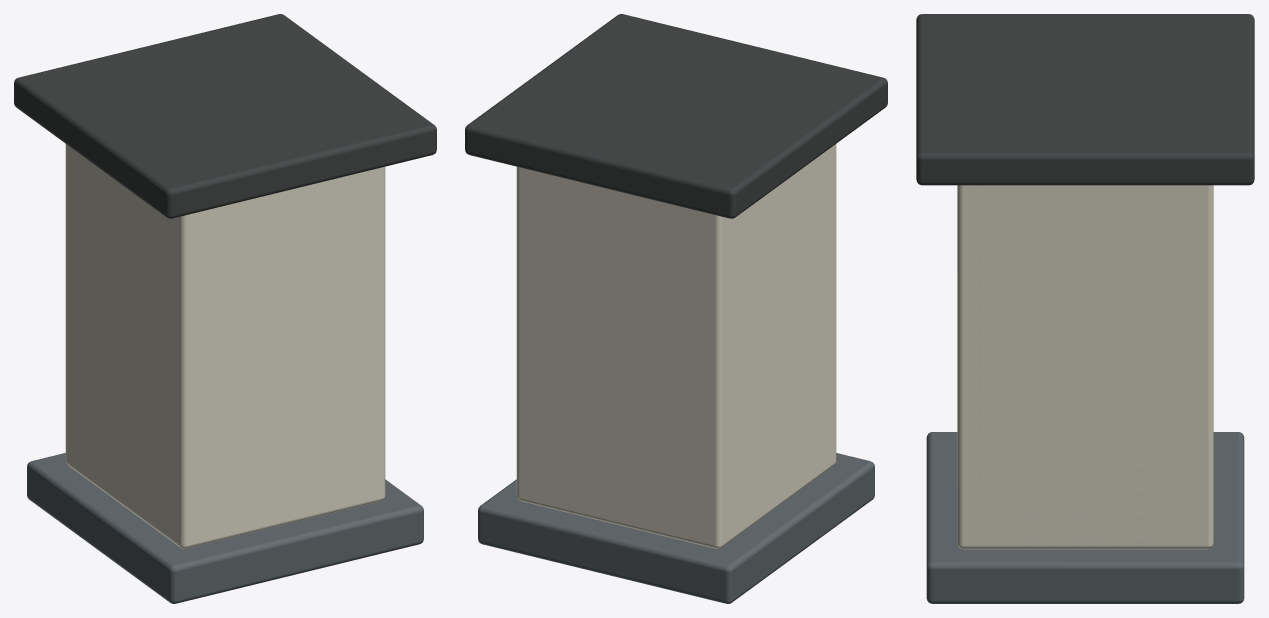
Rendered from glassblowing-studio-and-gallery-gallery-pedestal-f76650e7__29625.glb.
The picture shows the model from 3 angles, left to right: view 1: azimuth 30°, elevation 25°; view 2: azimuth 150°, elevation 25°; view 3: azimuth 270°, elevation 25°; orthographic projection. The views are drawn at different scales.
Parts seen in each view (by area): view 1: gallery-pedestal; view 2: gallery-pedestal; view 3: gallery-pedestal.
Part boxes in pixels (box(x1,y1,x2,y2)): gallery-pedestal: box(14, 14, 436, 603); gallery-pedestal: box(465, 14, 887, 603); gallery-pedestal: box(916, 14, 1254, 603).
Size of the model in its own units: 0.66 by 0.98 by 0.66.
